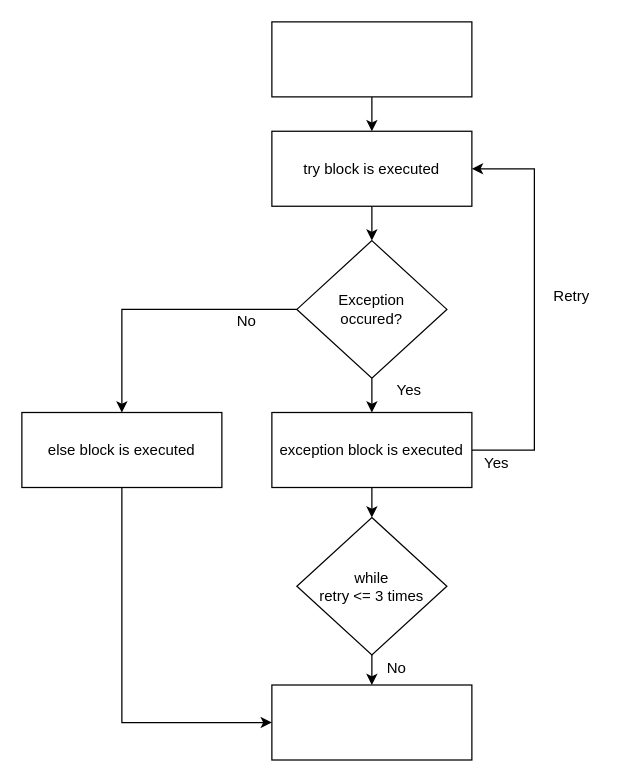
The diagram is 619 pixels wide and 783 high, and some of its shapes have lost their labels. Each missing label, with the centre of its shape:
"Finally block is executed" goes at pixel 371 722.
"Mixpanel Script" goes at pixel 371 59.
